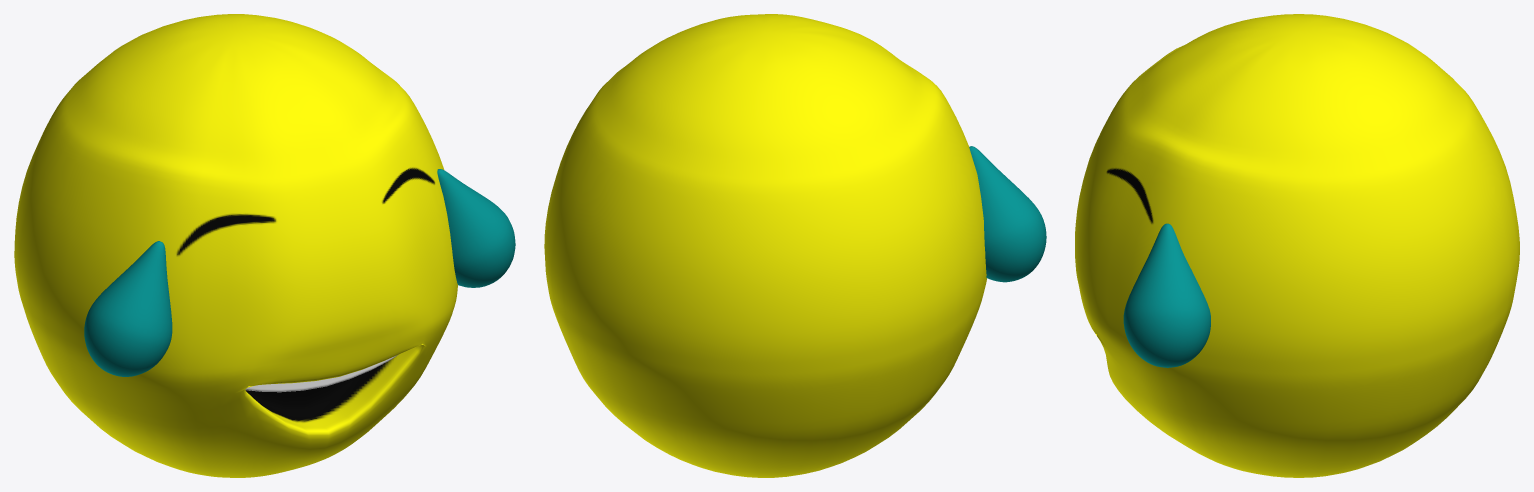
File: Laughing_Emoji.glb
3 views of the same model, side by side, from view 1: azimuth 30°, elevation 25°; view 2: azimuth 150°, elevation 25°; view 3: azimuth 270°, elevation 25° (orthographic).
Visible parts, largest first — view 1: Laughing_Emoji_Smooth; view 2: Laughing_Emoji_Smooth; view 3: Laughing_Emoji_Smooth.
Part boxes in pixels (x1,y1,x2,y2): Laughing_Emoji_Smooth: [14, 14, 515, 477]; Laughing_Emoji_Smooth: [544, 14, 1046, 477]; Laughing_Emoji_Smooth: [1075, 14, 1519, 477].
Bounding box in the file's own units: 0.00343 × 0.00332 × 0.00314.
2 materials, 1 textured.
